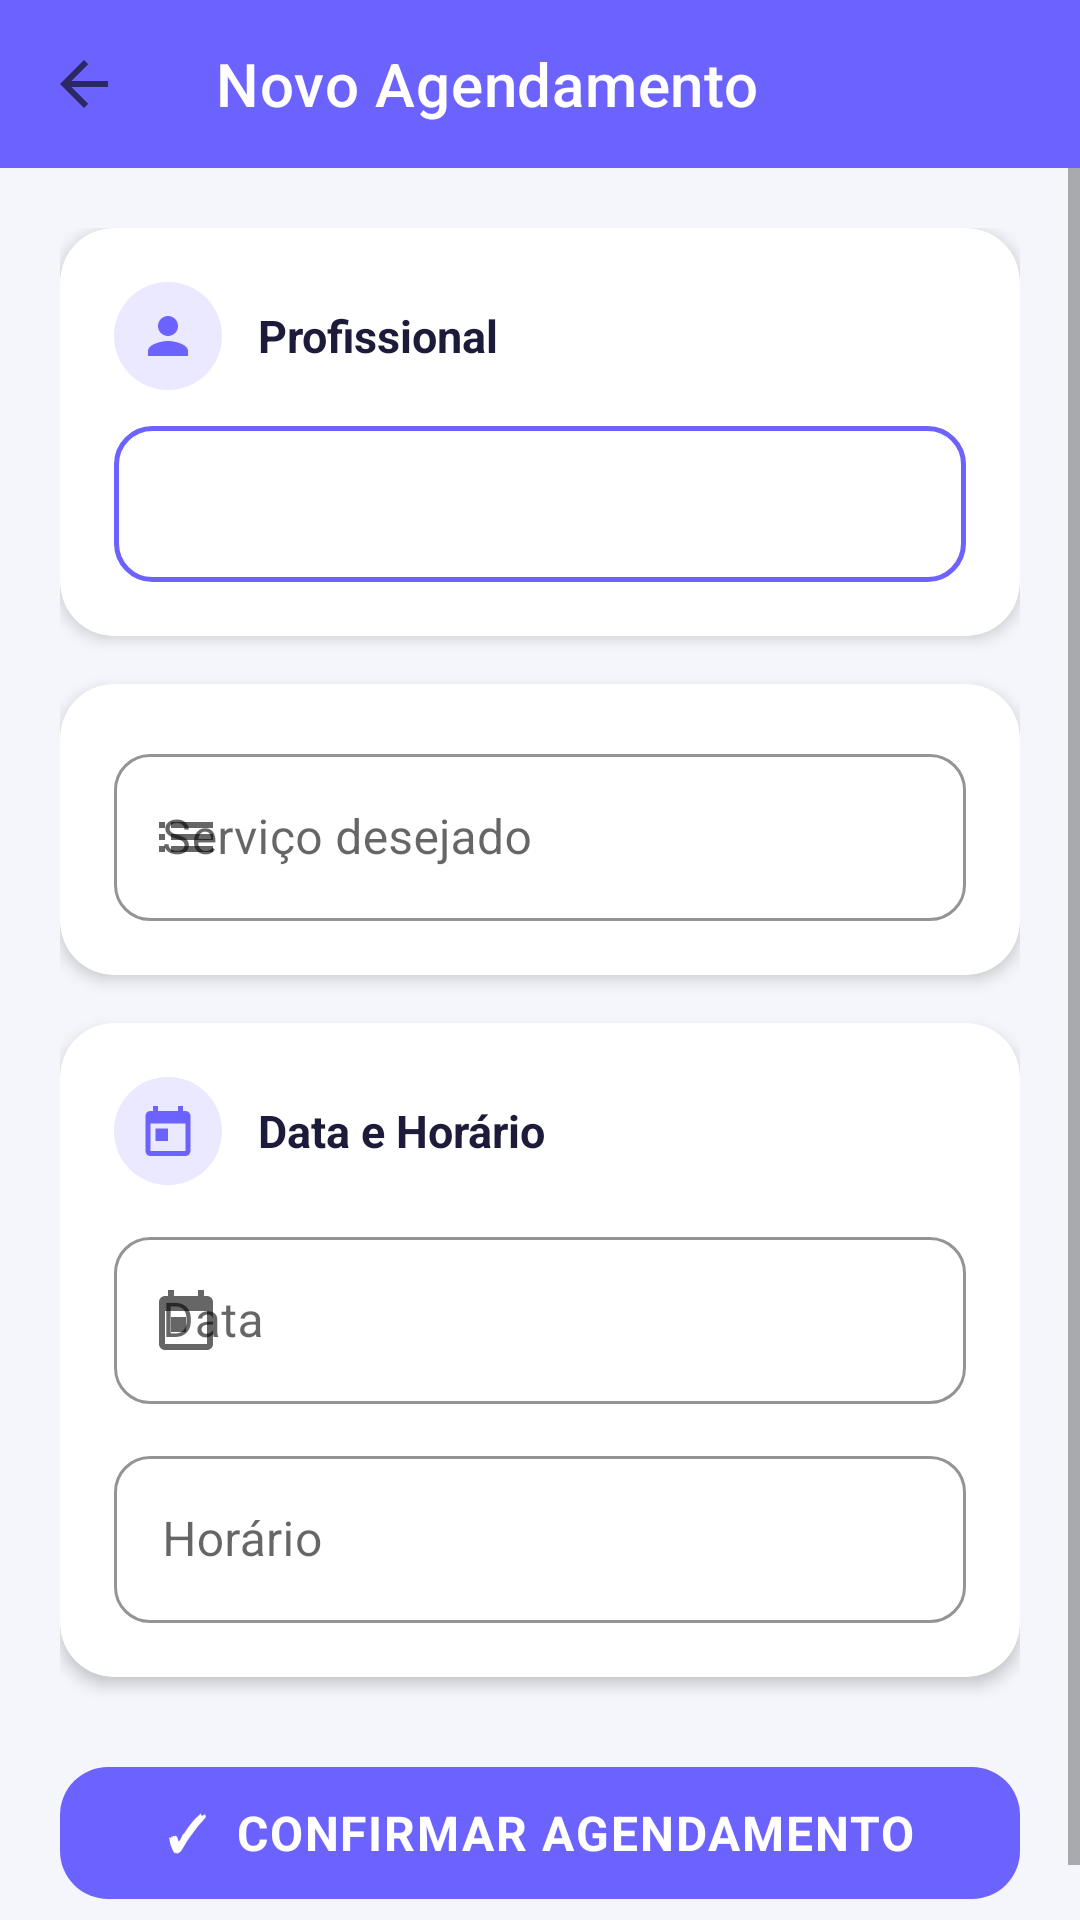

Where icons sit on this 1080x1920 app screen, as (x1, y1, x2, y2):
calendar: (145, 1106, 191, 1156)
person: (148, 316, 188, 356)
